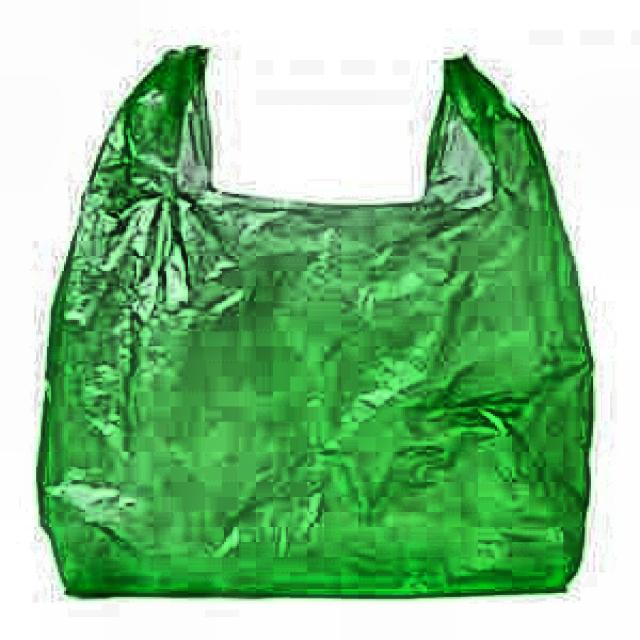Plastic: (34, 28, 613, 611)
